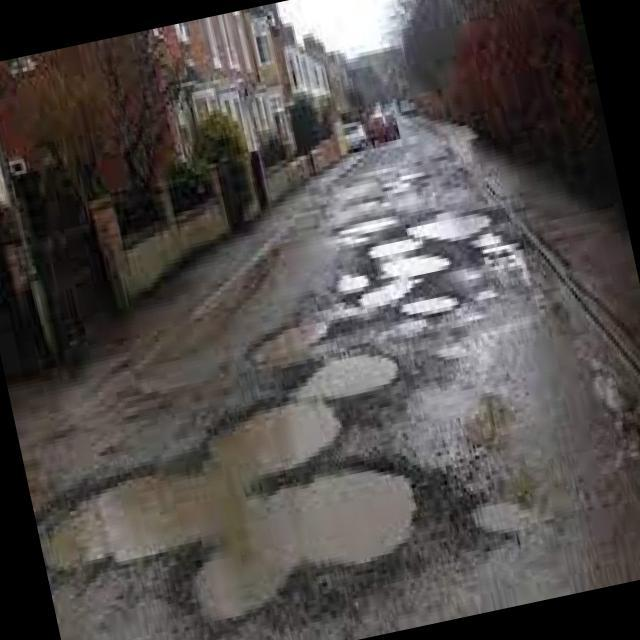Burst: (49, 354, 416, 622), (364, 226, 446, 305)
